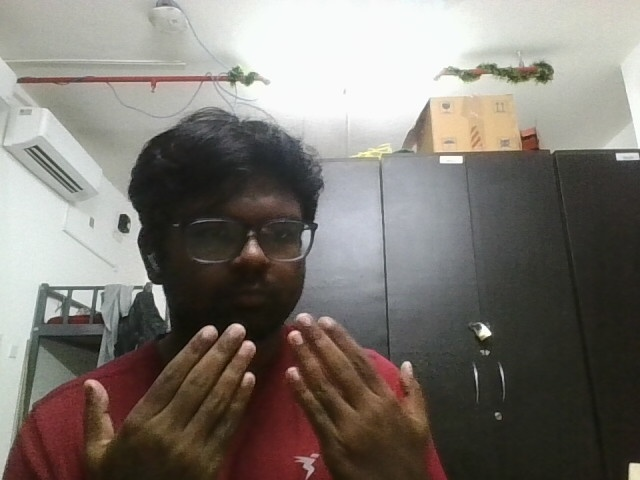Thanks: (67, 311, 447, 480)
